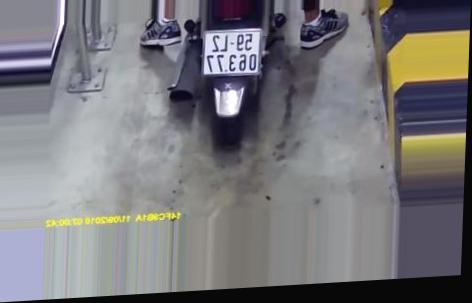License_Plate: (198, 24, 266, 82)
